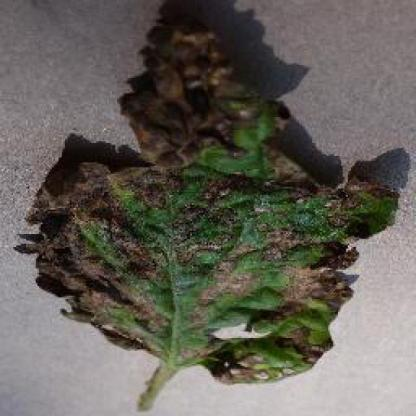Tomato_Blight: (16, 6, 398, 382)
